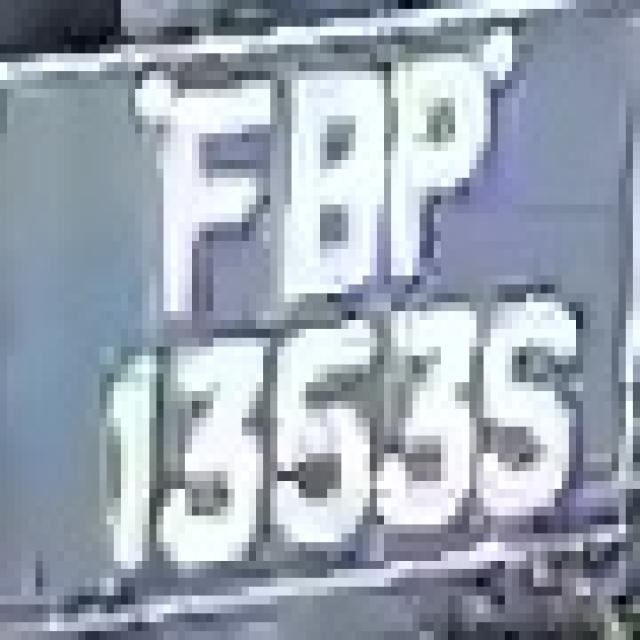1: (100, 311, 156, 596)
3: (377, 258, 491, 569), (164, 311, 270, 578)
5: (249, 329, 370, 578)
B: (256, 53, 391, 320)
F: (142, 62, 292, 338)
P: (377, 36, 491, 302)
S: (484, 276, 590, 551)
